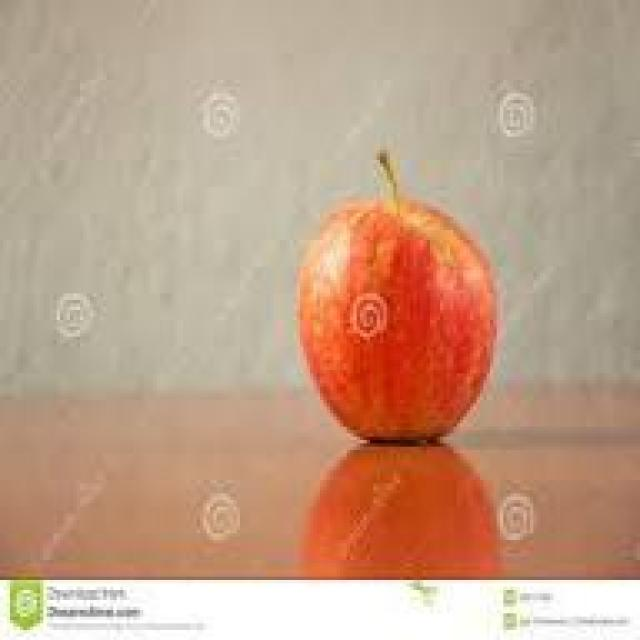apple: (297, 203, 493, 440)
